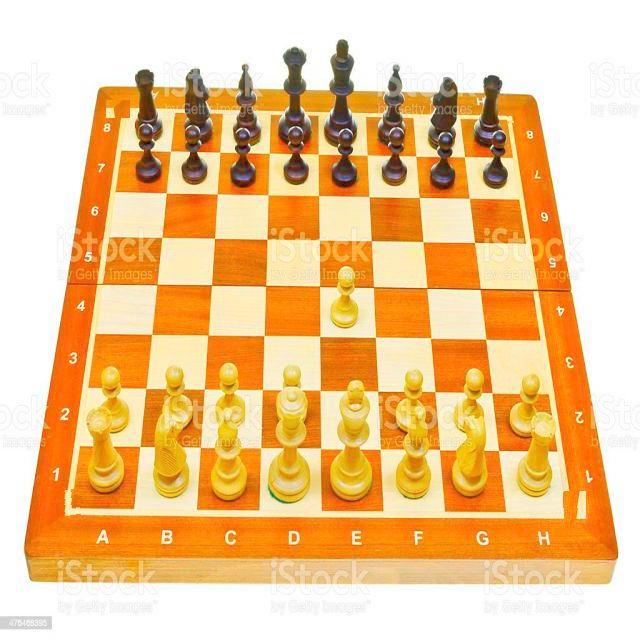chess-table-corners: (58, 488, 81, 526), (564, 491, 586, 524), (106, 100, 130, 118), (506, 108, 518, 123)
